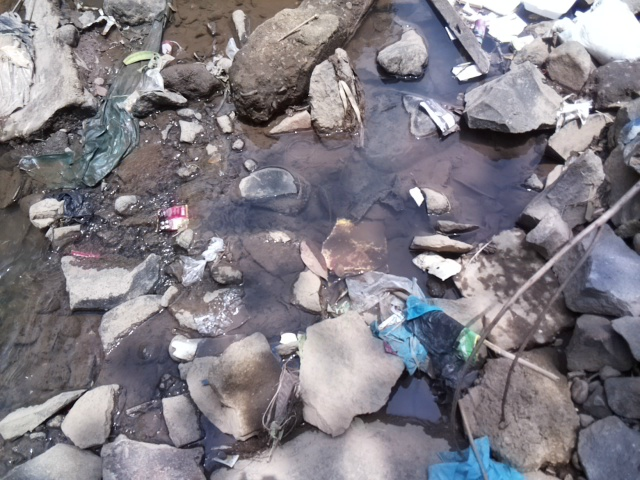Sampah_Plastik: (372, 289, 484, 400), (423, 439, 524, 479), (418, 99, 462, 136), (152, 206, 191, 232)
